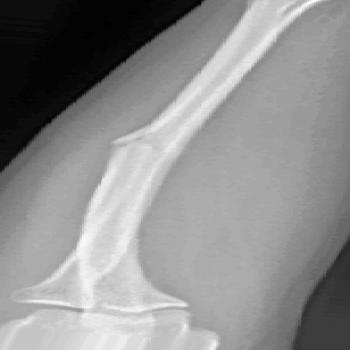Fracture: (91, 121, 170, 158)
